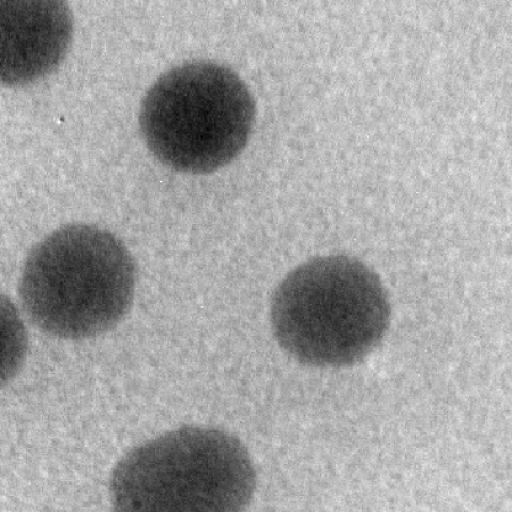Nanoparticles: (272, 249, 395, 372), (20, 223, 144, 343), (137, 58, 258, 176), (111, 422, 261, 512), (2, 0, 90, 88), (0, 286, 29, 398)
